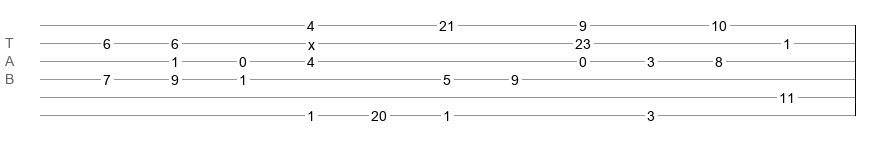0: (239, 54, 247, 64), (579, 54, 587, 64)
1: (171, 54, 179, 64), (239, 72, 247, 82), (307, 108, 315, 118), (443, 108, 451, 118), (783, 36, 791, 46)
10: (711, 18, 727, 28)
11: (779, 90, 795, 100)
20: (371, 108, 387, 118)
21: (439, 18, 455, 28)
23: (575, 36, 591, 46)
3: (647, 108, 655, 118), (647, 54, 655, 64)
4: (307, 54, 315, 64), (307, 18, 315, 28)
5: (443, 72, 451, 82)
6: (103, 36, 111, 46), (171, 36, 179, 46)
7: (103, 72, 111, 82)
8: (715, 54, 723, 64)
9: (171, 72, 179, 82), (511, 72, 519, 82), (579, 18, 587, 28)
x: (308, 37, 315, 45)
